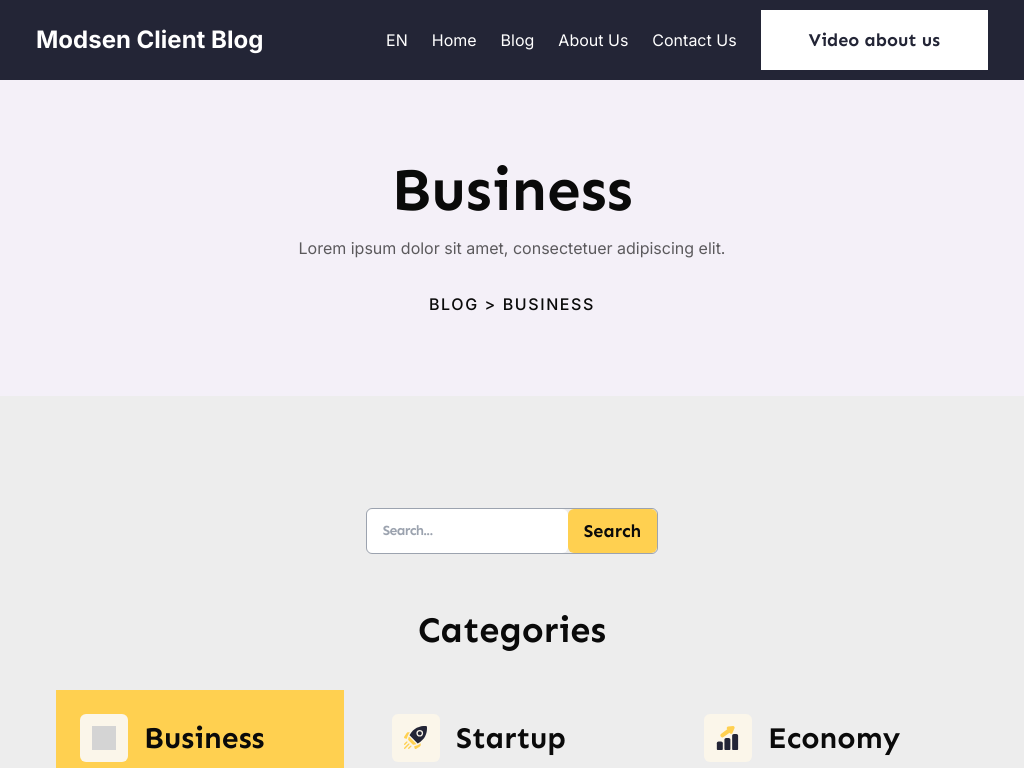
Scenario: certain category page › should display set to input new value , when click on hint element
Type "li" into the field with placeholder "Search...".
click(468, 531); type("li")  # box top-left (367, 509), bottom-right (568, 553)
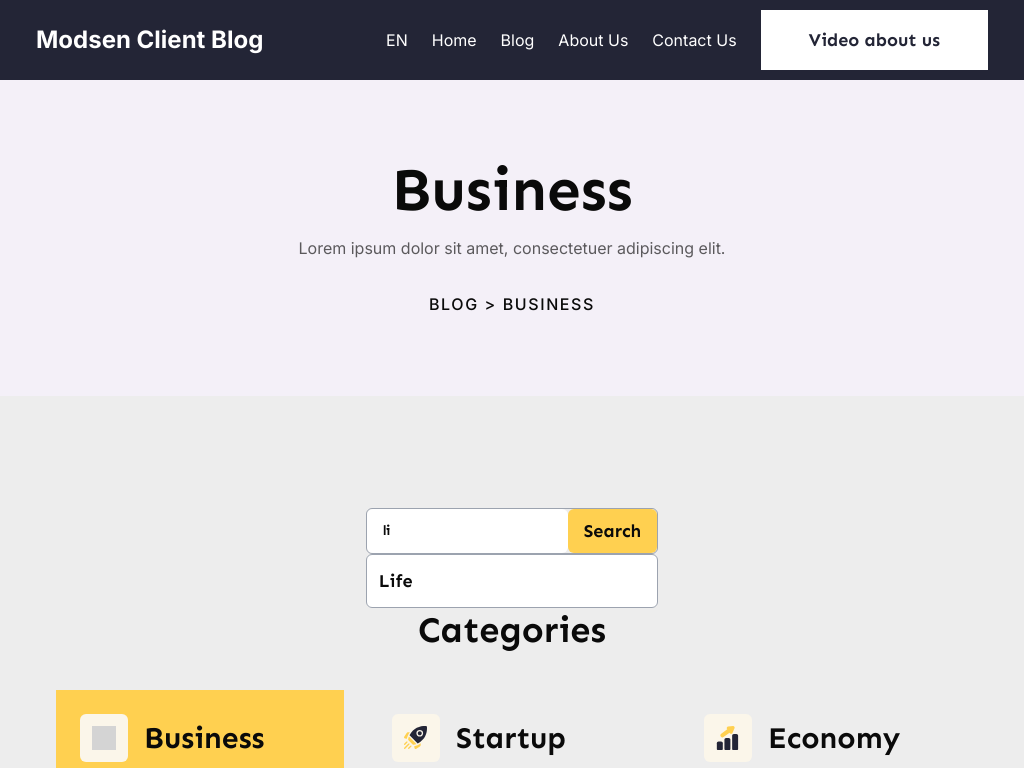
Result: the list with test id "hint" is shown
Click the text "Life".
click(513, 581)  # box top-left (366, 554), bottom-right (659, 608)
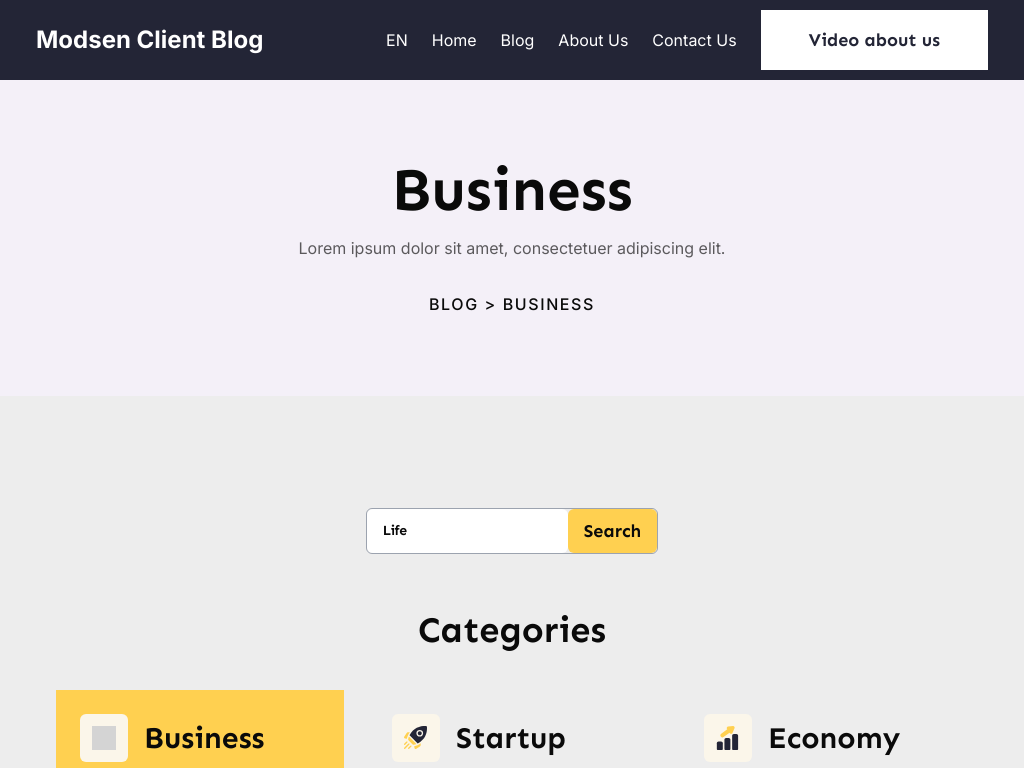
Result: the field holds "Life" at top-left (367, 509), bottom-right (568, 553)
